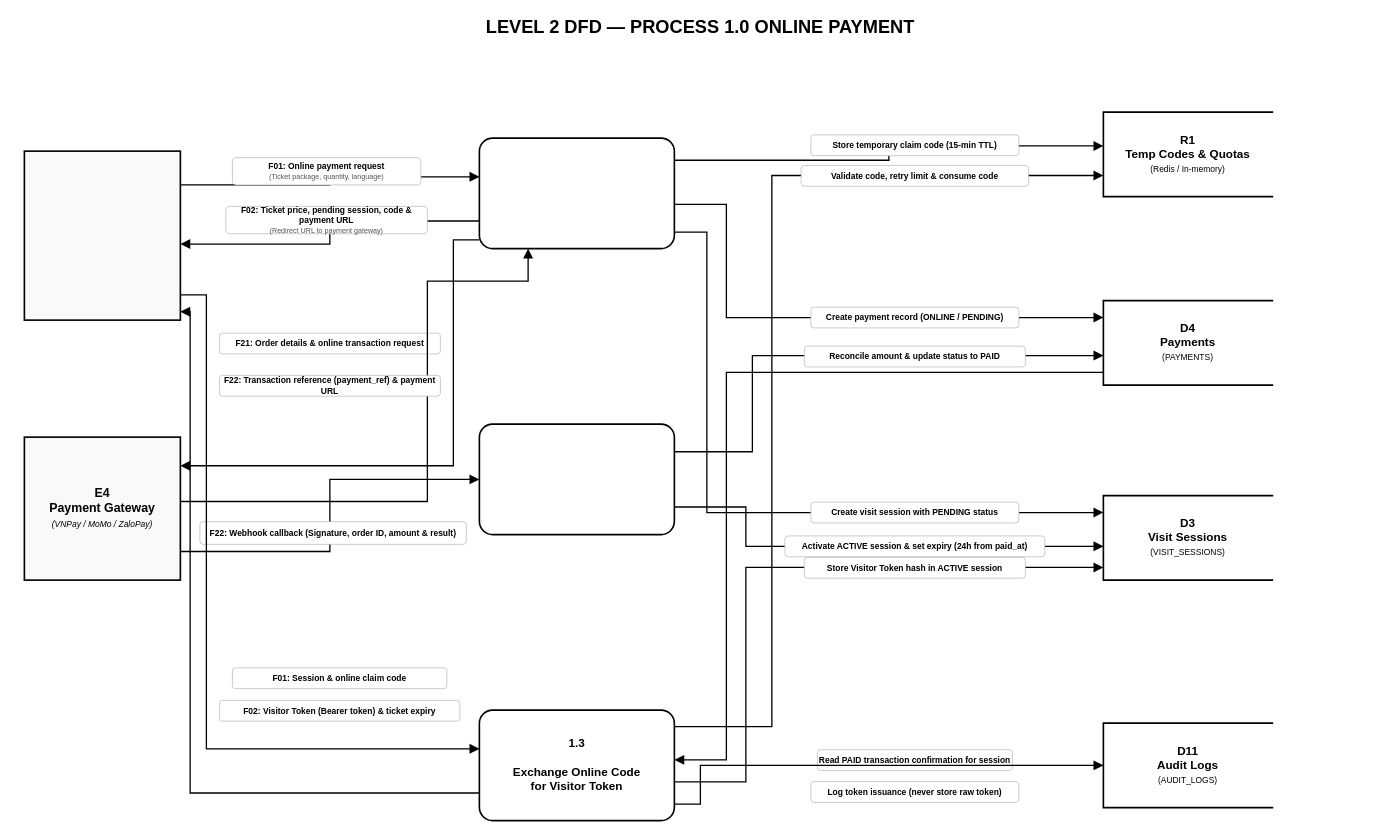
Image size: 1400x833. Some labels were removed from this diagram. Each missing label, with the centre of its shape:
1.1 Initiate online payment: point 576,193
1.2 Verify Webhook & activate session: point 576,479
E1 Visitor (Book ticket & receive token): point 102,235
